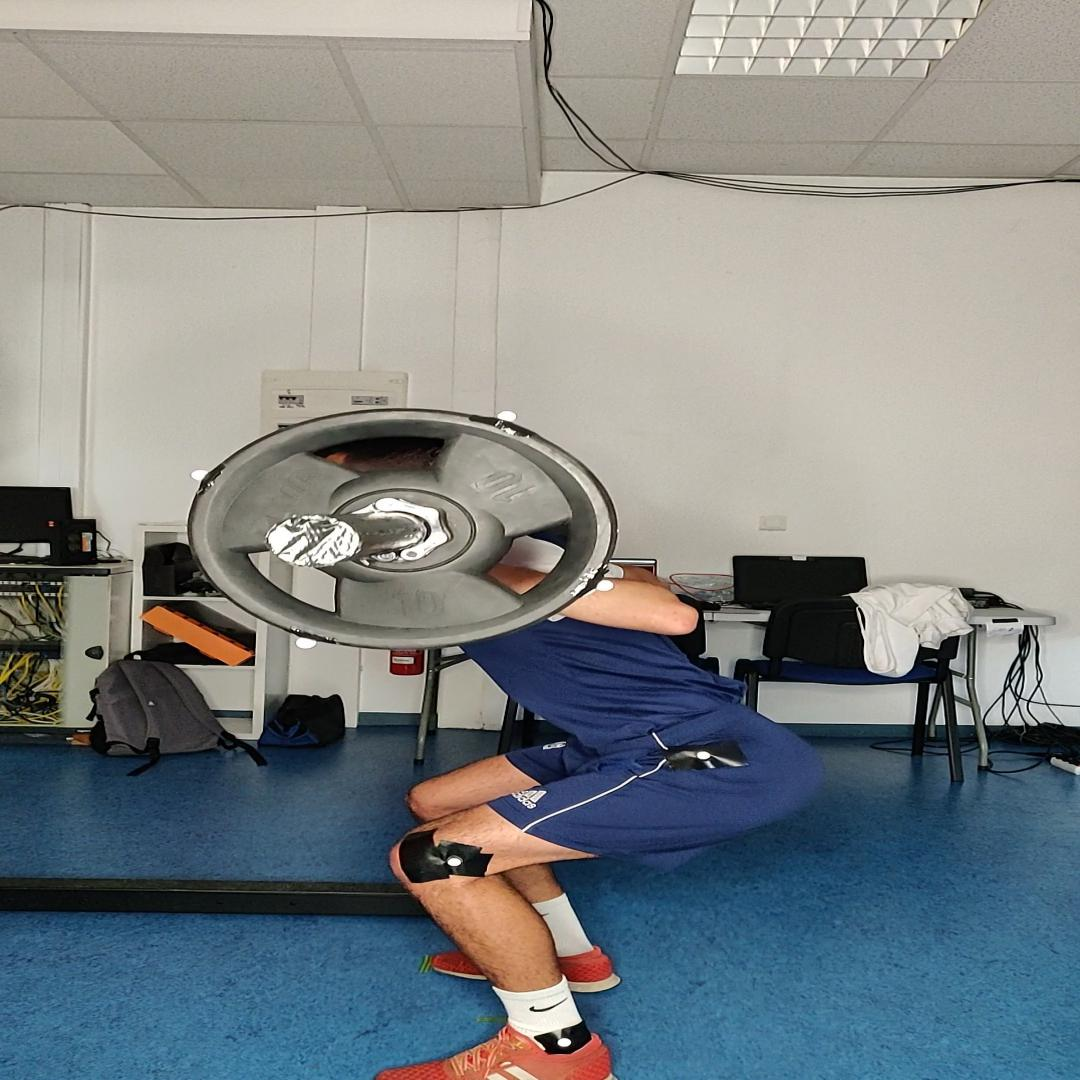Bar: (267, 514, 361, 568)
Barbell: (190, 408, 618, 649)
